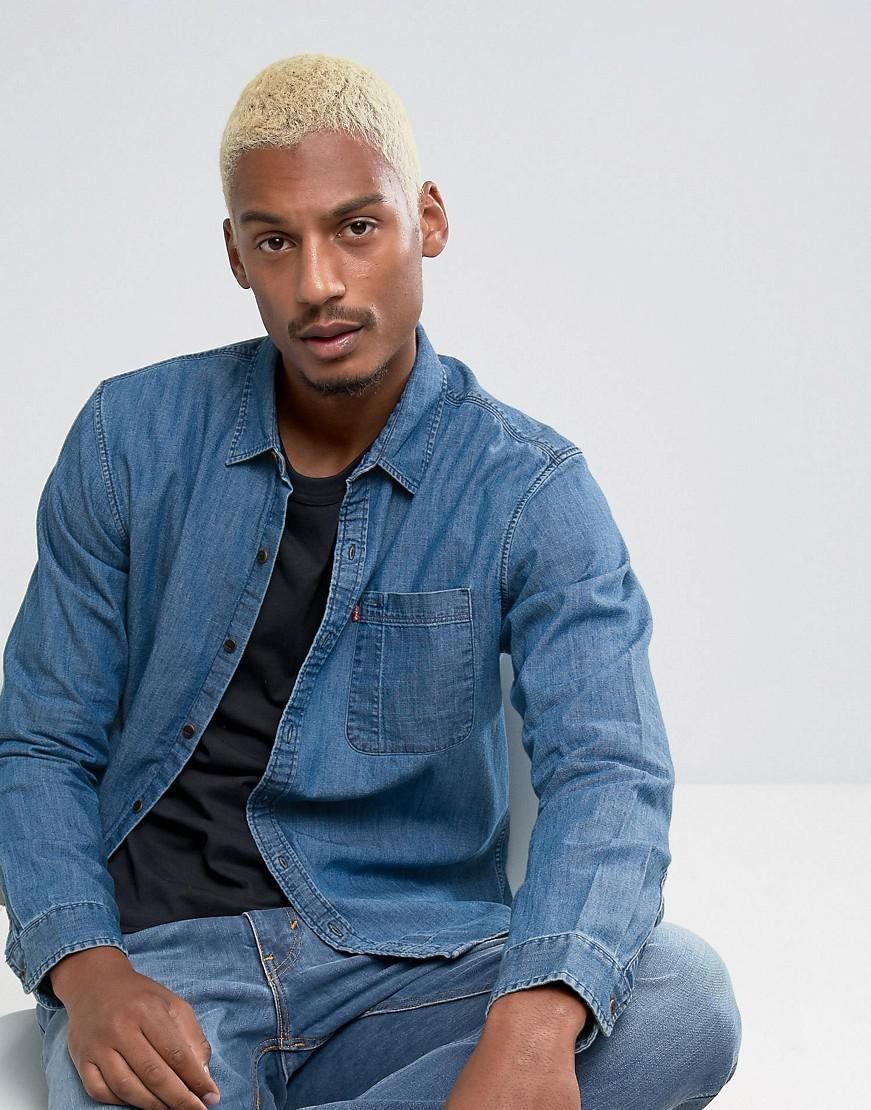teeshirt: (3, 317, 669, 1047)
